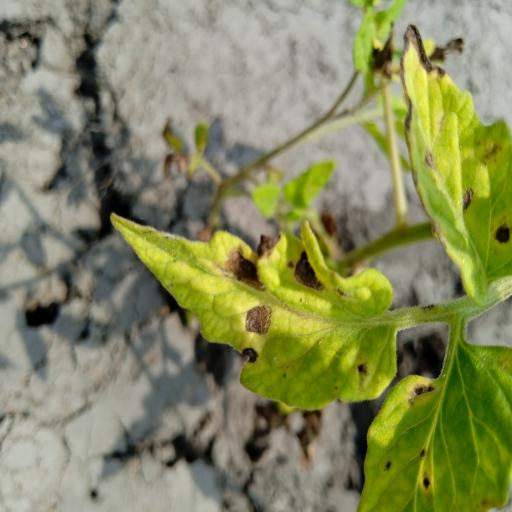Tomato_Brown_Spots: (106, 214, 407, 420)
